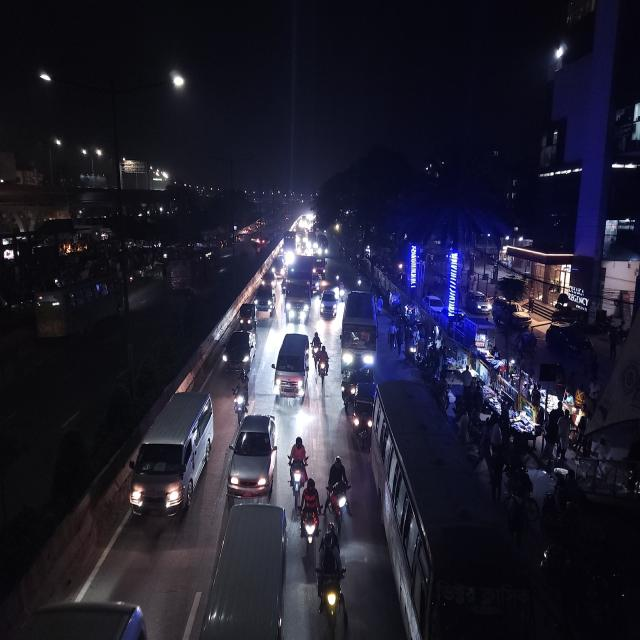bus: (374, 378, 525, 640), (340, 288, 380, 374), (167, 249, 207, 296), (312, 254, 328, 276)
car: (127, 388, 215, 524), (210, 502, 290, 639), (227, 409, 279, 500), (274, 328, 310, 411), (219, 326, 257, 375), (491, 294, 535, 333), (254, 283, 276, 319), (463, 287, 491, 315), (319, 286, 338, 325), (423, 291, 445, 318), (272, 254, 286, 279), (252, 234, 266, 248)
cng: (352, 376, 376, 449), (236, 300, 258, 330)
motorcycle: (314, 525, 345, 634), (327, 453, 350, 528), (299, 476, 321, 554), (288, 433, 308, 496), (312, 330, 330, 386), (231, 373, 250, 420), (311, 328, 323, 370), (334, 269, 342, 287)
pedestrian: (388, 320, 398, 351)
truck: (281, 258, 312, 323), (283, 232, 297, 263)
